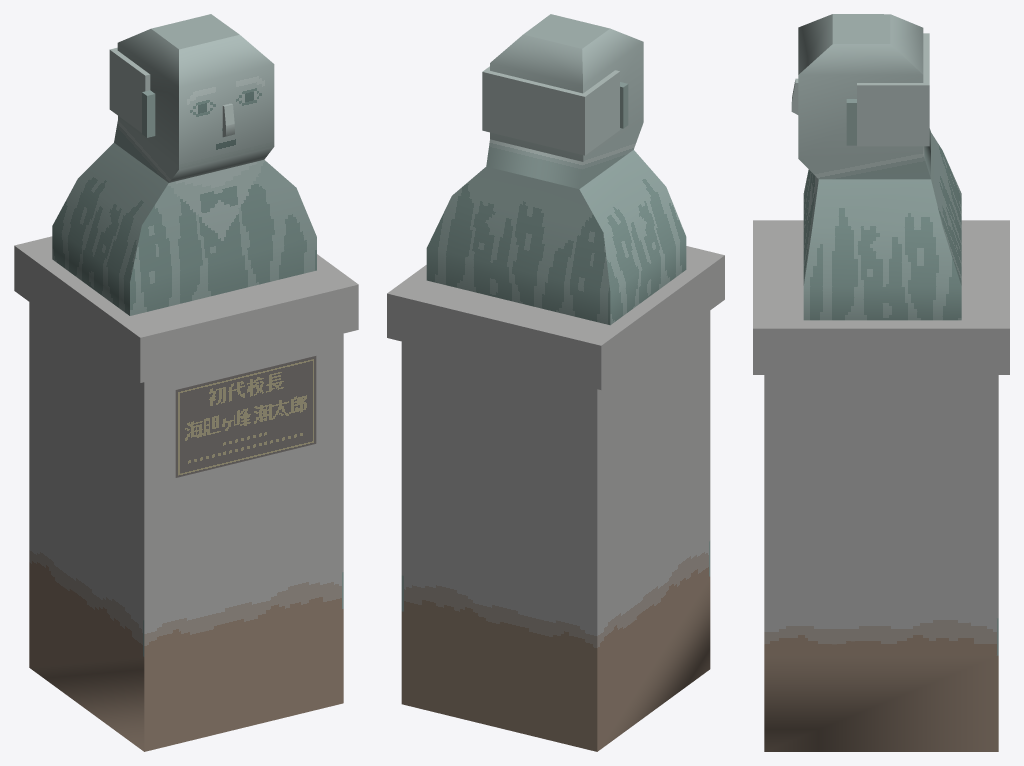
File: 02a7_Principal_s_Statue.glb
3 views of the same model, side by side, from view 1: azimuth 30°, elevation 25°; view 2: azimuth 150°, elevation 25°; view 3: azimuth 270°, elevation 25° (orthographic). The views are drawn at different scales.
Visible parts, largest first — view 1: part_0; view 2: part_0; view 3: part_0.
Part boxes in pixels (box(x1,y1,x2,y2)): part_0: box(14, 14, 358, 751); part_0: box(387, 14, 724, 751); part_0: box(753, 14, 1009, 751).
Size of the model in its own units: 0.5892 by 1.7 by 0.5892.
1 material, 1 textured.
